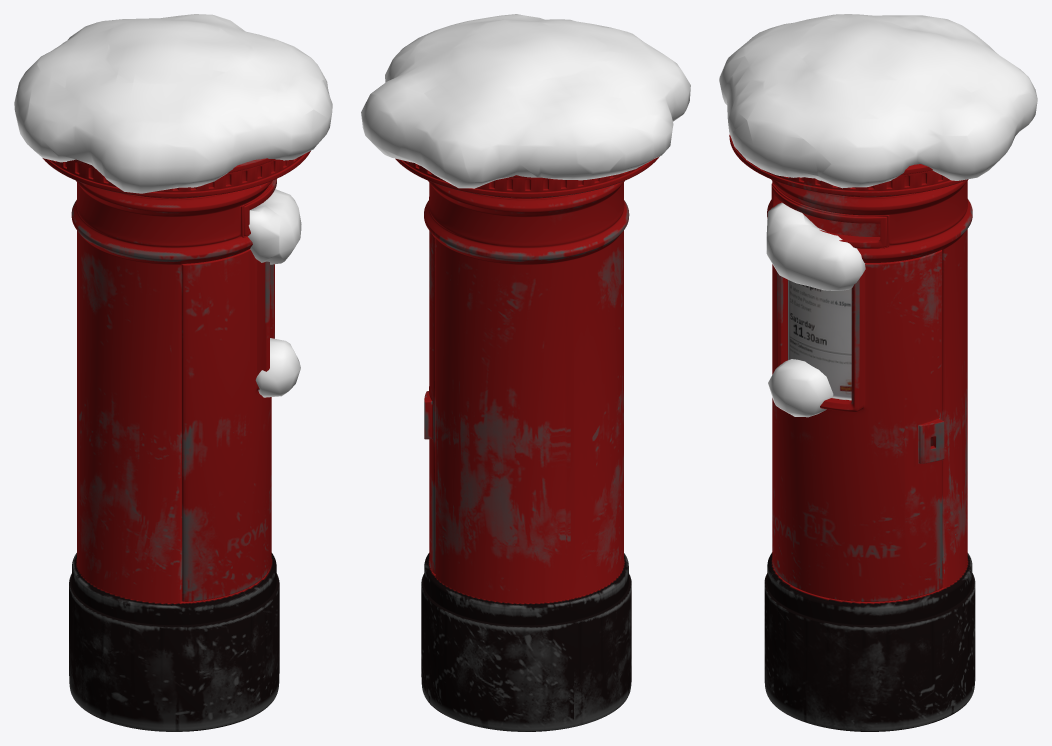
The model's file is postbox.glb.
3 renders of one model, left to right at view 1: azimuth 30°, elevation 25°; view 2: azimuth 150°, elevation 25°; view 3: azimuth 270°, elevation 25°, orthographic.
Parts seen in each view (by area): view 1: postbox, snow; view 2: postbox, snow; view 3: postbox, snow.
Part boxes in pixels (x1,y1,x2,y2): postbox: (42,151,310,731); snow: (14,14,332,397); postbox: (395,156,659,731); snow: (361,14,690,188); postbox: (729,134,975,731); snow: (719,14,1037,417).
Bounding box in the file's own units: 0.213 × 0.4725 × 0.2102.
Materials: 3 (1 with a texture image).
